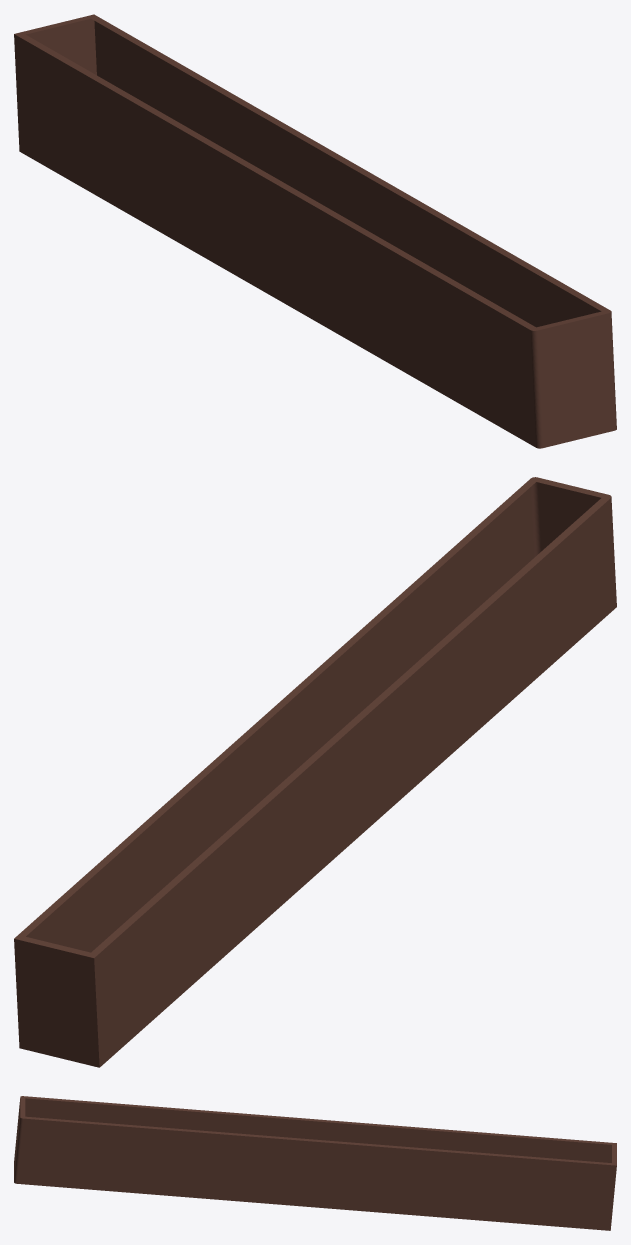
File: original-16.obj
The picture shows the model from 3 angles, top to bottom: view 1: azimuth 30°, elevation 25°; view 2: azimuth 150°, elevation 25°; view 3: azimuth 270°, elevation 25°; orthographic projection. The views are drawn at different scales.
Parts seen in each view (by area): view 1: #ID129; view 2: #ID129; view 3: #ID129.
Boxes of the visible parts, x1,y1,x2,y2 form: #ID129: (14,14,616,448); #ID129: (14,477,616,1067); #ID129: (14,1096,616,1230).
Size of the model in its own units: 0.1313 by 0.3066 by 1.49.
